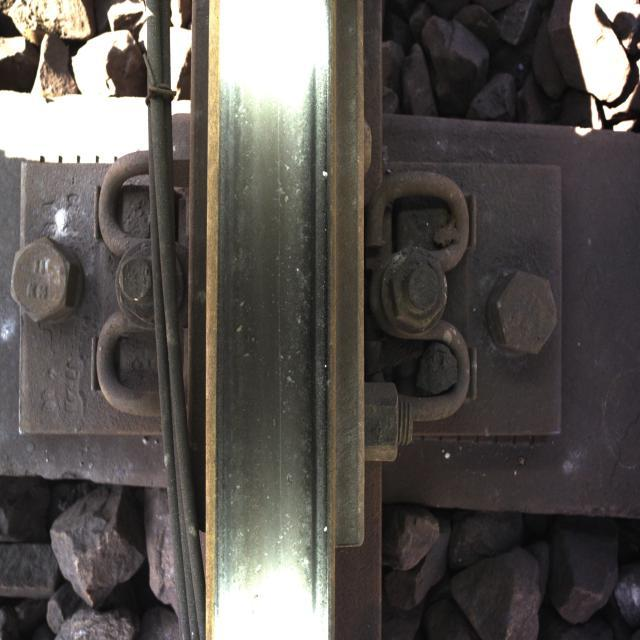normal: (214, 35, 318, 613)
